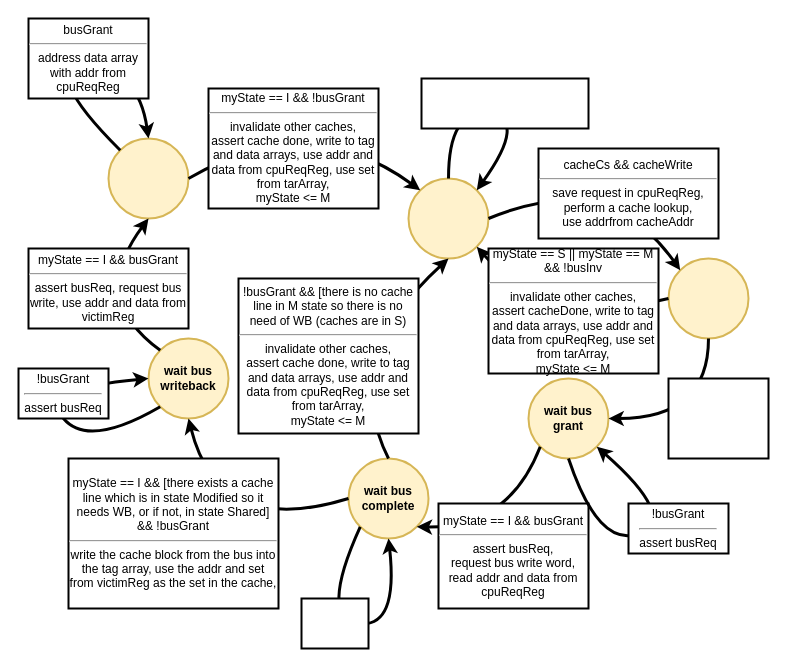
This 786x666 diagram has some shape labels left out. Here are the shapes that lost their labels. From the top down, the centre of each, then its label:
the point at 504,103: !(cacheCs && cacheWrite) -
the point at 148,178: wait bus grant complete
the point at 448,218: idle
the point at 708,298: hit test
the point at 718,418: myState == I || (myState == S && busInv) -
the point at 334,623: busGrant -
